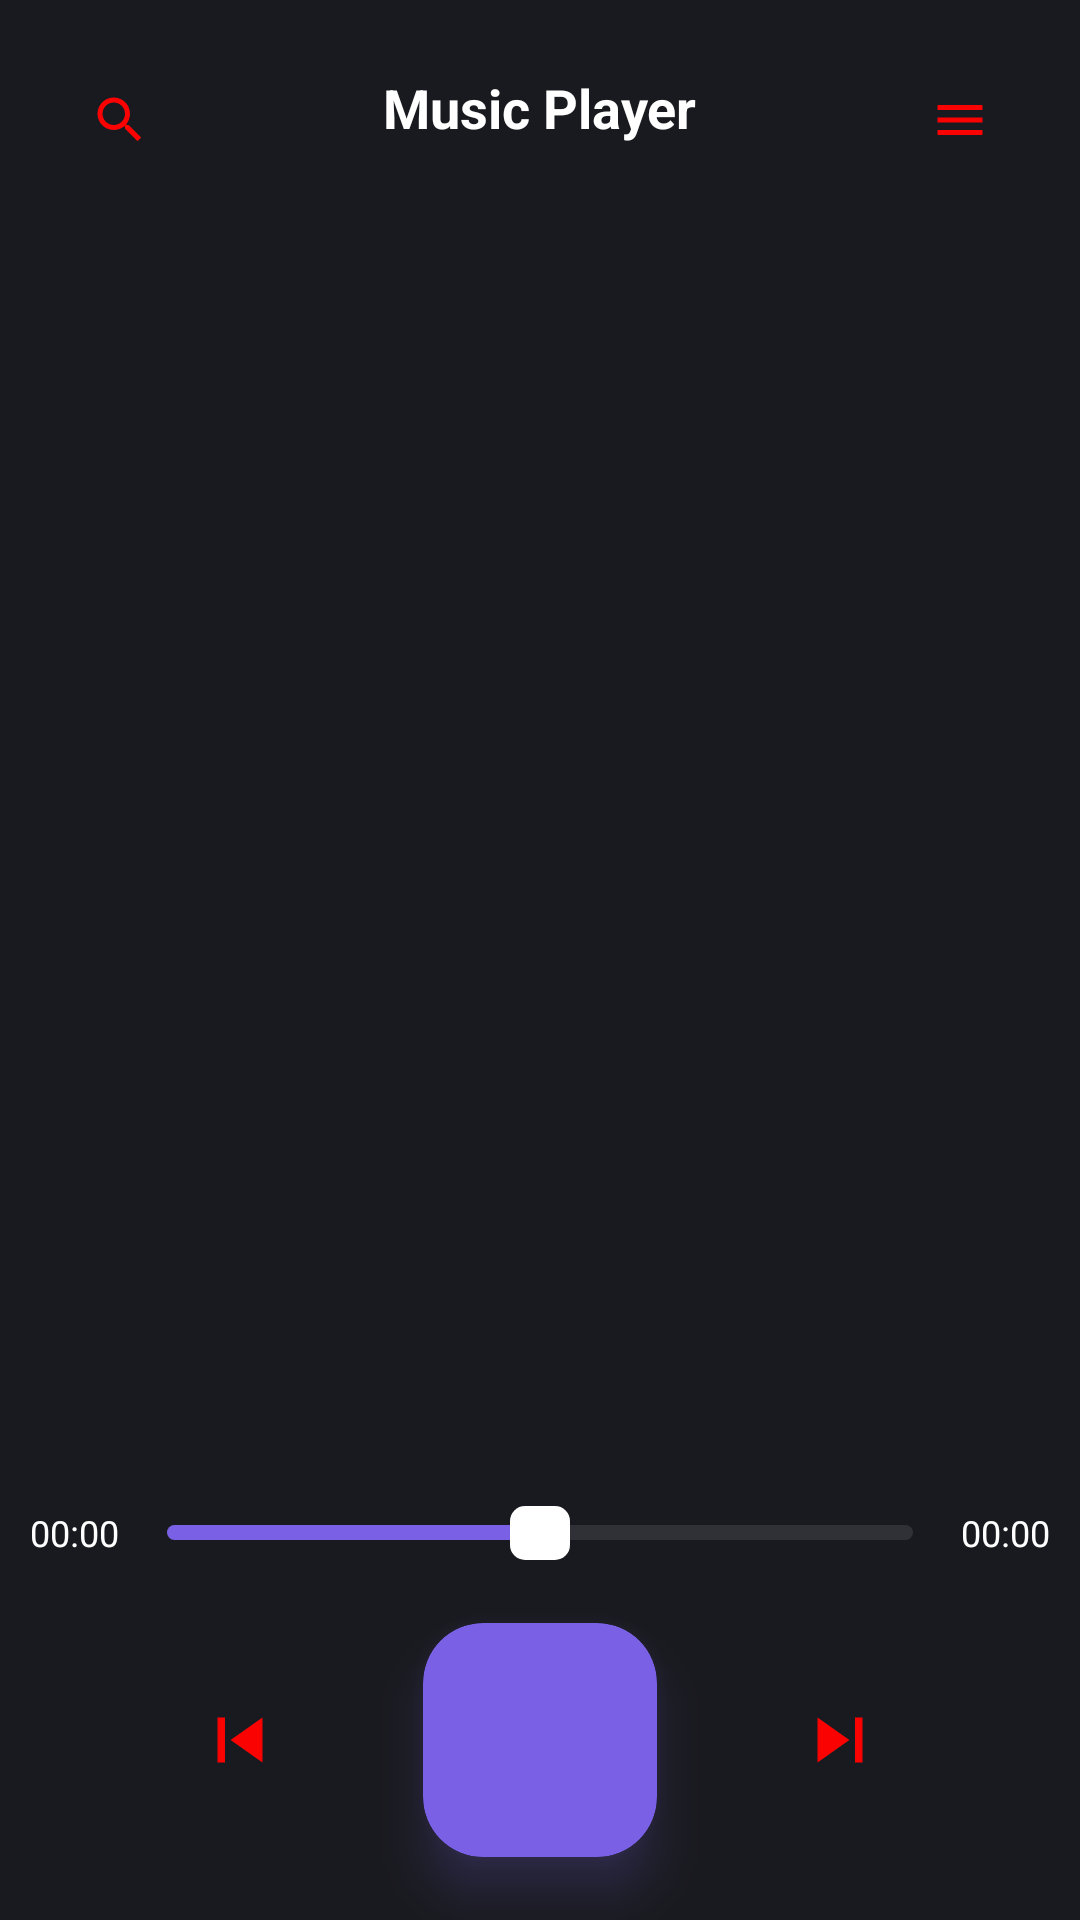

Screen size 1080w x 1920h. Icon name, then its box in pixels as box(x1, y1, x2, y2):
menu: box(937, 105, 983, 135)
next: box(817, 1717, 863, 1763)
previous: box(217, 1717, 263, 1763)
search: box(97, 97, 141, 141)
